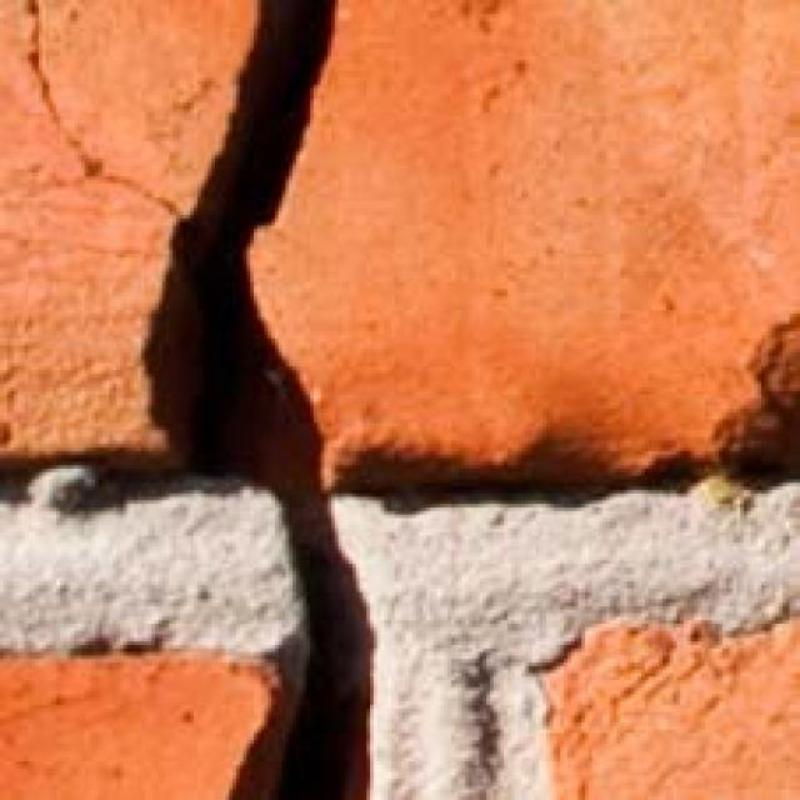pothole: (144, 0, 372, 799), (27, 0, 178, 215)
